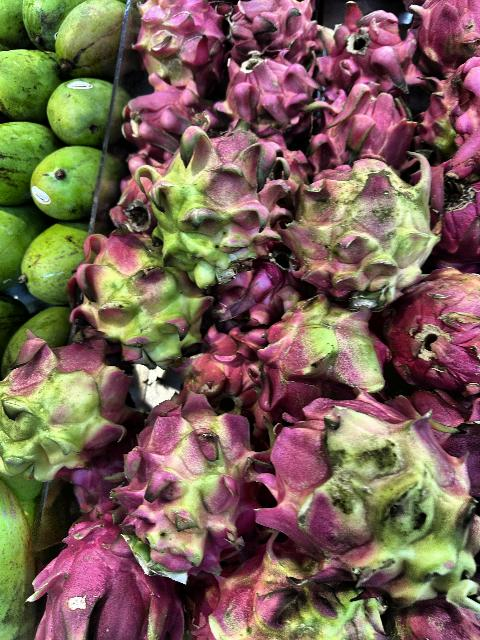buah-naga-belum-matang: (252, 375, 480, 613), (110, 391, 256, 574), (143, 131, 283, 281), (281, 156, 434, 292), (1, 332, 124, 488), (71, 225, 207, 353), (190, 556, 382, 640), (260, 284, 379, 416)
buah-naga-matang: (30, 512, 188, 640), (388, 268, 480, 389), (129, 1, 235, 88), (309, 80, 407, 172), (178, 327, 264, 423), (317, 8, 416, 86), (227, 52, 310, 140), (416, 146, 480, 256), (116, 81, 218, 147), (223, 1, 319, 64), (406, 2, 480, 74), (106, 146, 164, 230)
